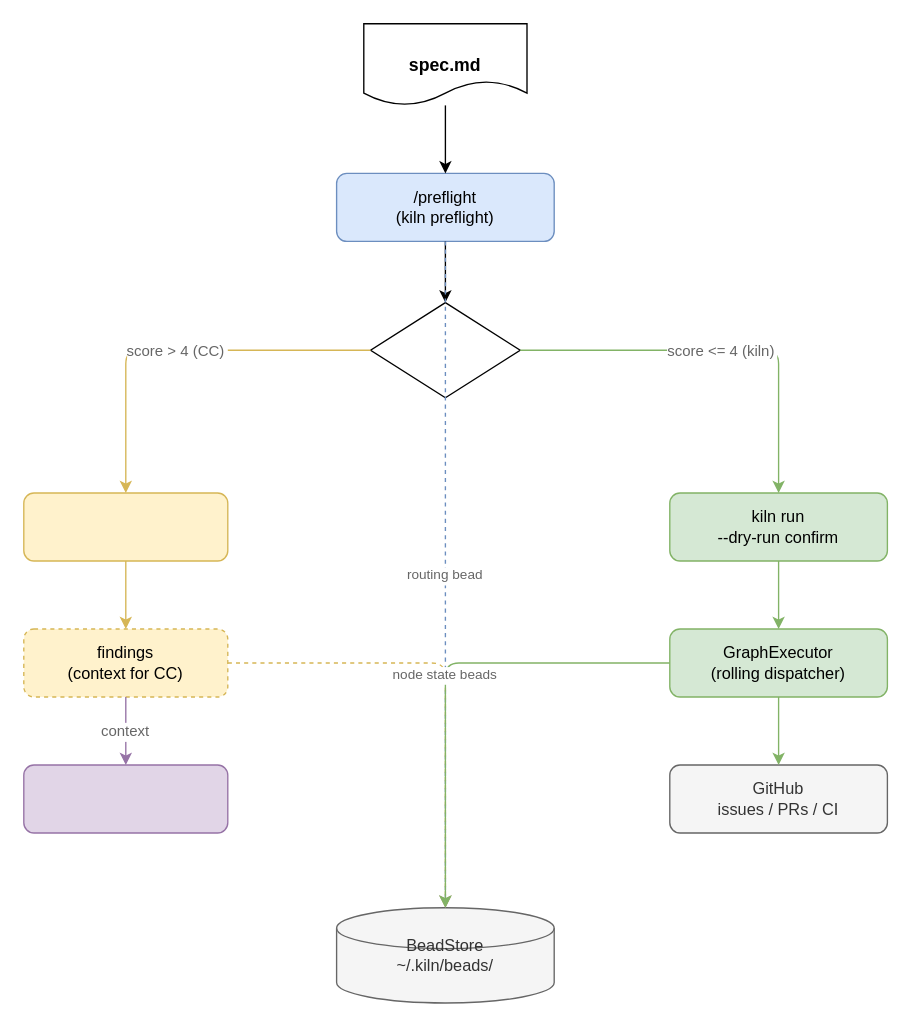
This 911x1027 diagram has some shape labels left out. Here are the shapes that lost their labels. From the top down, the box of each, then its label:
(369, 301, 520, 398): score?
(22, 492, 228, 561): proof run (research agent)
(22, 764, 228, 833): Claude Code session
